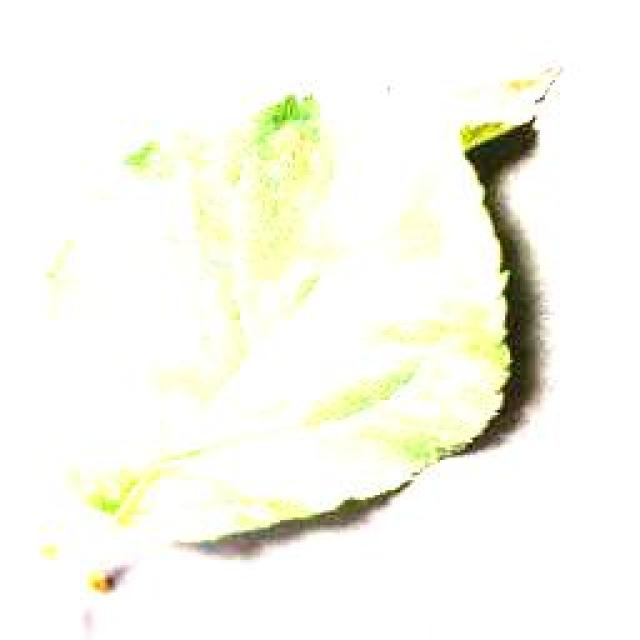apple rust disease: (45, 60, 560, 592)
